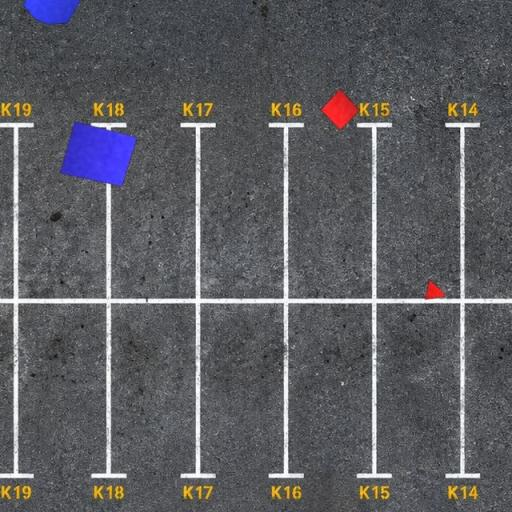BLUE_SQUARE: (59, 121, 138, 187)
RED_SQUARE: (320, 88, 360, 130)
